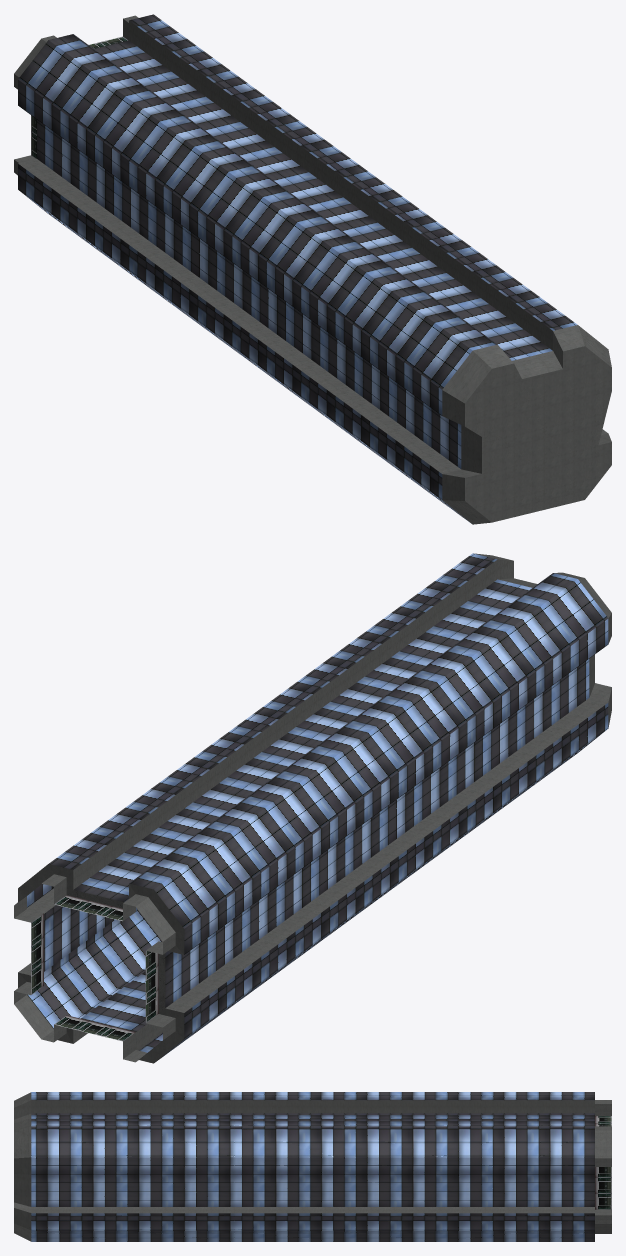
The model's file is skyscraper_windowE_06.obj.
3 renders of one model, top to bottom at view 1: azimuth 30°, elevation 25°; view 2: azimuth 150°, elevation 25°; view 3: azimuth 270°, elevation 25°, orthographic. The views are drawn at different scales.
Visible parts, largest first — view 1: Object99; view 2: Object99; view 3: Object99.
Boxes of the visible parts, x1=… form: Object99: x1=14, y1=14, x2=611, y2=524; Object99: x1=14, y1=553, x2=611, y2=1063; Object99: x1=14, y1=1092, x2=611, y2=1241.
Size of the model in its own units: 44.68 by 44.68 by 209.
3 materials, 3 textured.
